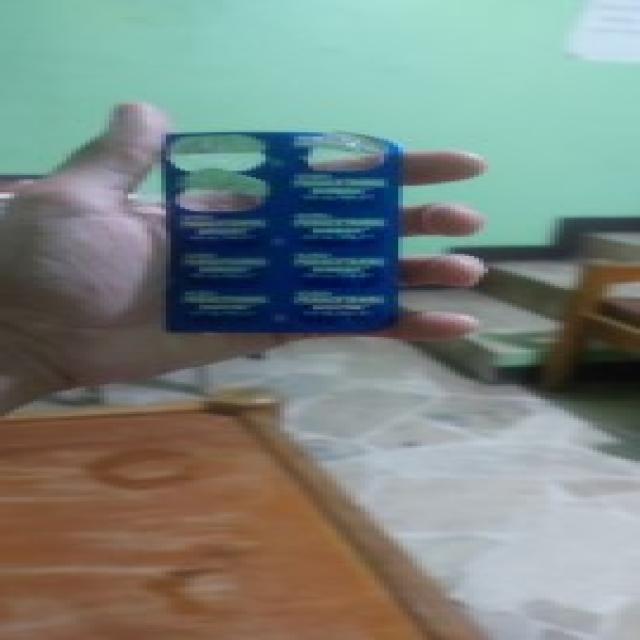Cacat: (157, 128, 406, 334)
Kemasan: (296, 131, 401, 181), (168, 132, 268, 176), (175, 178, 272, 222)
